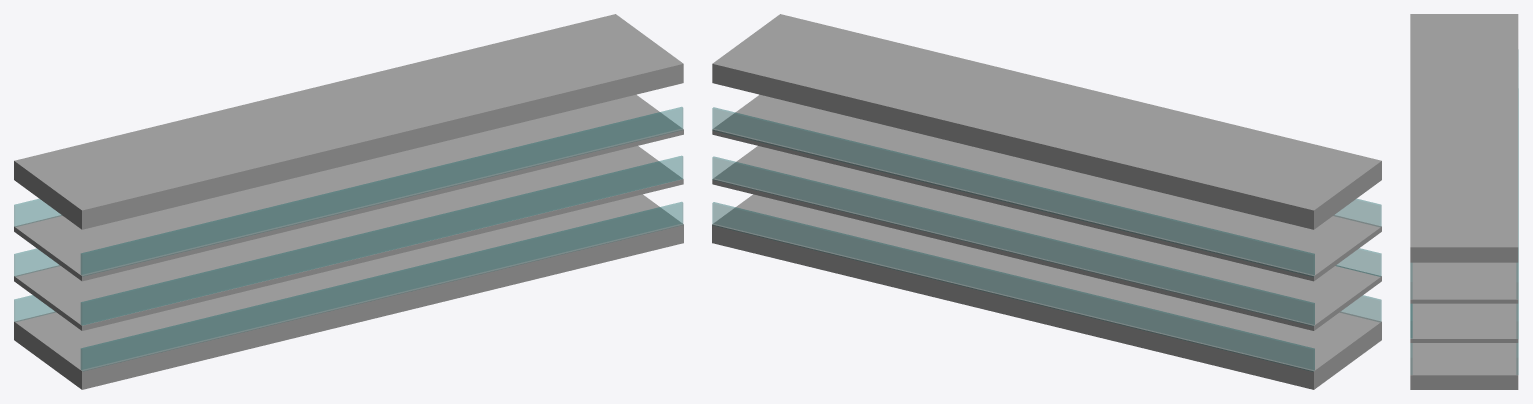
Rendered from house4.fbx.
3 renders of one model, left to right at view 1: azimuth 30°, elevation 25°; view 2: azimuth 150°, elevation 25°; view 3: azimuth 270°, elevation 25°, orthographic. The views are drawn at different scales.
Parts seen in each view (by area): view 1: fourthHouse; view 2: fourthHouse; view 3: fourthHouse.
Part boxes in pixels (left/top/right/bottom): fourthHouse: left=14, top=14, right=683, bottom=389; fourthHouse: left=712, top=14, right=1381, bottom=389; fourthHouse: left=1410, top=14, right=1518, bottom=389.
Size of the model in its own units: 0.7441 by 0.212 by 0.1462.
